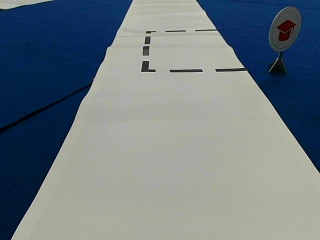school: (269, 7, 299, 50)
